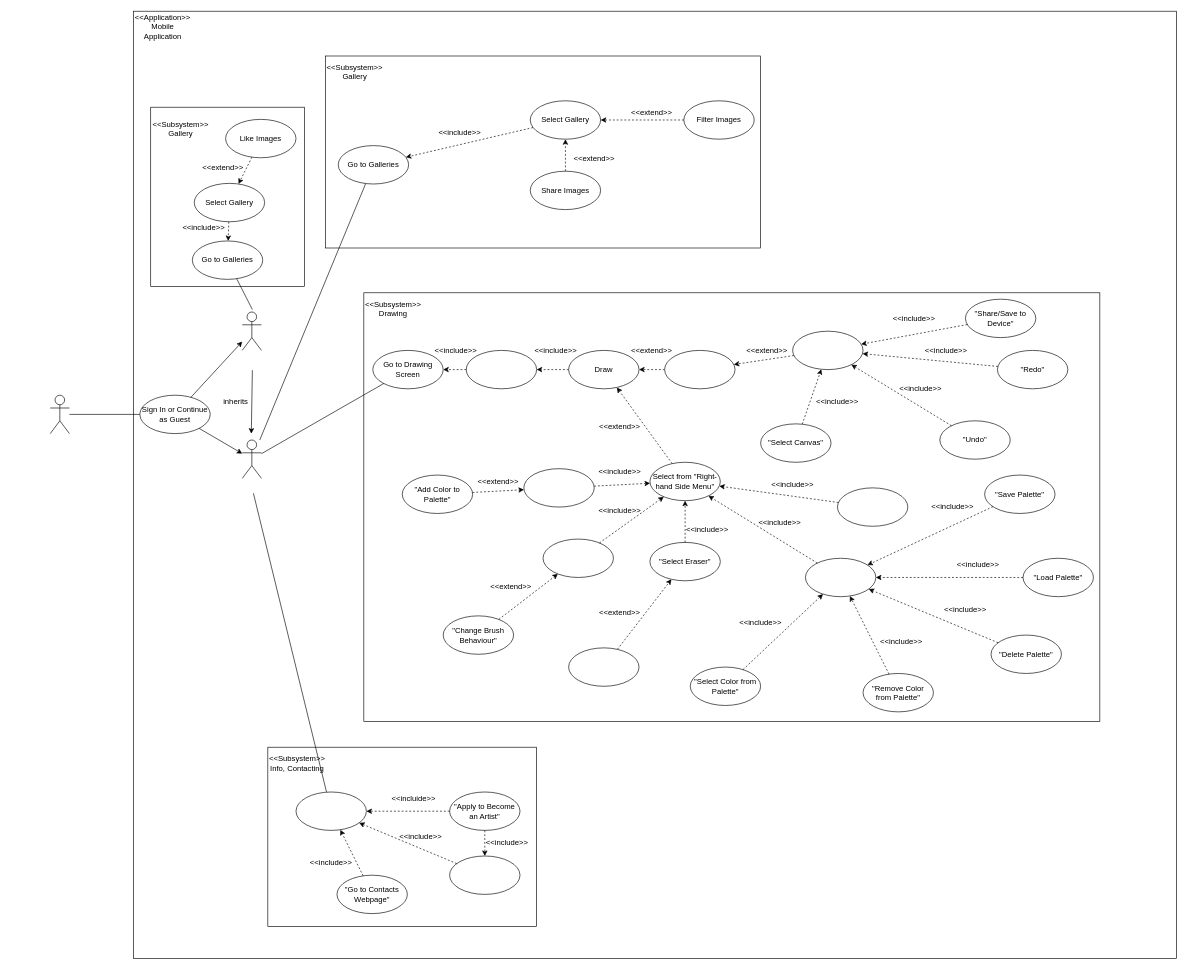
Image size: 1188x970. Some labels were removed from this diagram. The shapes that lost their labels are listed below. From the top down, each one's box as (x1, y1, x2, y2) in pixels, then its label:
(242, 311, 261, 350): User
(792, 331, 863, 370): Select from "Drawing Options
(466, 350, 537, 389): Select Canvas
(664, 350, 735, 389): Tap "Drawing Options"
(50, 395, 69, 434): Individual Opens Mobile App
(242, 439, 261, 478): Guest
(523, 468, 594, 507): "Select Color"
(837, 487, 908, 526): "Save Canvas"
(542, 538, 613, 577): "Select Brush"
(805, 558, 876, 597): "Select Color Palette"
(568, 647, 639, 686): "Change Eraser Behaviour"
(295, 791, 366, 830): Go to Info Page
(449, 855, 520, 894): "Go to Website"
